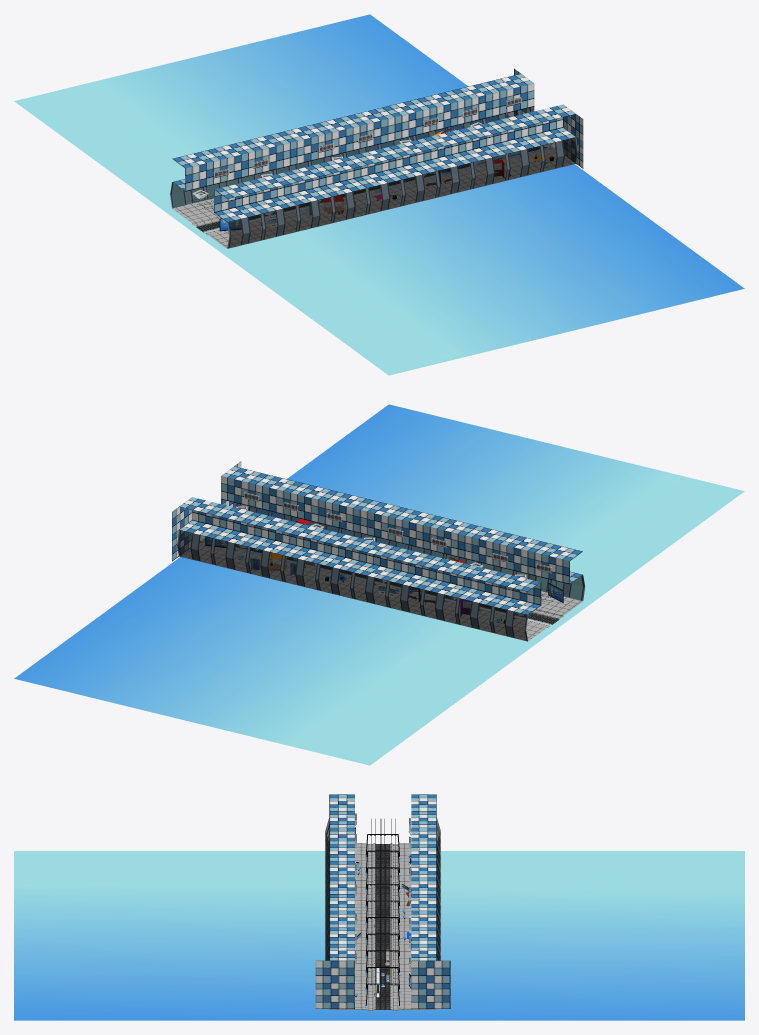
The model's file is subwaysurferstest59.glb.
3 renders of one model, top to bottom at view 1: azimuth 30°, elevation 25°; view 2: azimuth 150°, elevation 25°; view 3: azimuth 270°, elevation 25°, orthographic. The views are drawn at different scales.
Parts seen in each view (by area): view 1: Water, tiledwall.017, tiledwall.023, tiledwall.005, tiledwall.003, tiledwall.006, tiledwall.014, tiledwall.011, tiledwall.010, tiledwall, tiledwall.015, tiledwall.016 (+20 smaller); view 2: Water, tiledwall.023, tiledwall.018, tiledwall.019, tiledwall.020, tiledwall.021, tiledwall.022, tiledwall.007, tiledwall.017, tiledwall.013, tiledwall.009, tiledwall.012 (+20 smaller); view 3: Water, tiledwall.004, tiledwall.008, tiledwall.002, tiledwall.001, tiledwall.005, tiledwall.015, tiledwall.012, tiledwall.021, tiledwall, tiledwall.003, tiledwall.006 (+13 smaller).
Part boxes in pixels (x1,y1,x2,y2): Water: (14,14,744,375); tiledwall.017: (214,181,261,222); tiledwall.023: (172,150,219,191); tiledwall.005: (458,121,505,162); tiledwall.003: (493,113,540,154); tiledwall.006: (423,130,471,171); tiledwall.014: (318,155,366,196); tiledwall.011: (353,147,401,188); tiledwall.010: (388,138,435,179); tiledwall: (528,104,575,145); tiledwall.015: (284,164,331,205); tiledwall.016: (249,172,296,213); Water: (14,404,744,765); tiledwall.023: (493,574,541,614); tiledwall.018: (319,531,366,572); tiledwall.019: (354,540,401,580); tiledwall.020: (389,548,436,589); tiledwall.021: (424,556,471,597); tiledwall.022: (458,565,506,606); tiledwall.007: (179,497,226,538); tiledwall.017: (535,543,582,584); tiledwall.013: (284,522,331,563); tiledwall.009: (214,505,261,546); tiledwall.012: (249,514,296,555); Water: (14,851,744,1020); tiledwall.004: (315,983,354,1008); tiledwall.008: (411,983,450,1008); tiledwall.002: (411,960,450,983); tiledwall.001: (315,960,354,983); tiledwall.005: (329,910,354,927); tiledwall.015: (329,827,354,844); tiledwall.012: (411,910,436,927); tiledwall.021: (411,827,436,844); tiledwall: (329,944,354,960); tiledwall.003: (329,927,354,943); tiledwall.006: (329,894,354,910).
Size of the model in its own units: 410 by 63.57 by 744.
7 materials, 7 textured.
